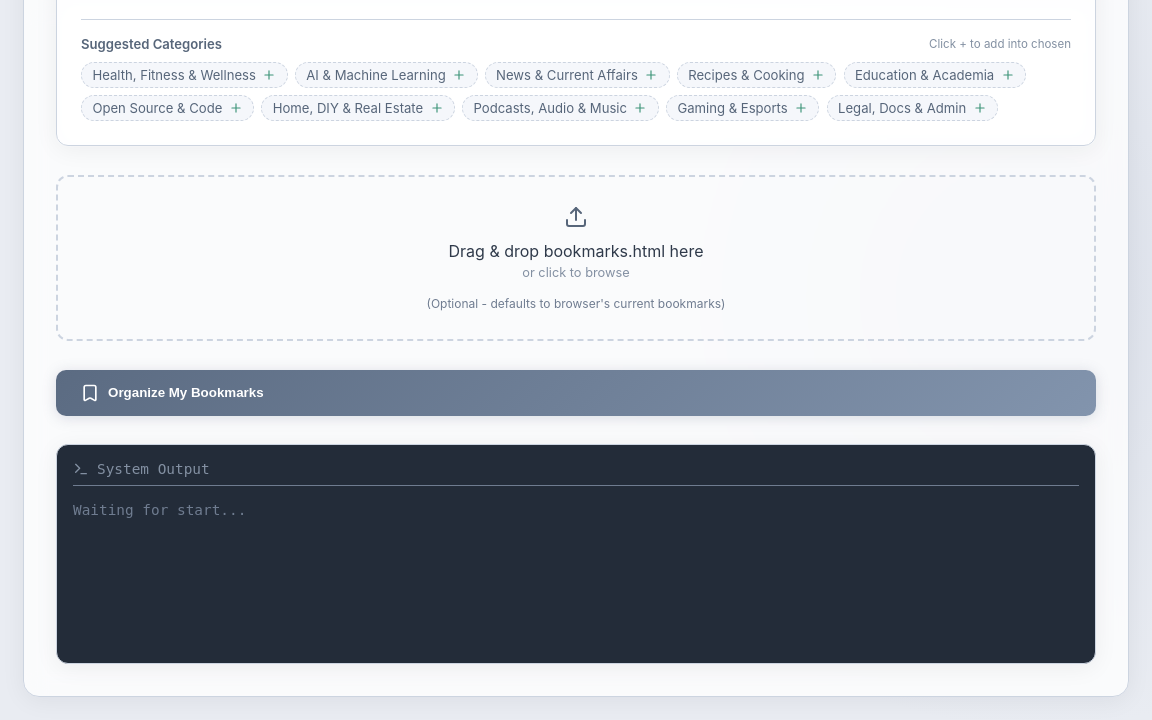
Test: Organizer Component UI Tests › handles status processing and progress to actually update UI progress and logs
This screenshot has width=1152, height=720.
(page scrolled)
Step 1. Click the button "Organize My Bookmarks" → [186, 393], box [56,370,1096,416]
(page scrolled)
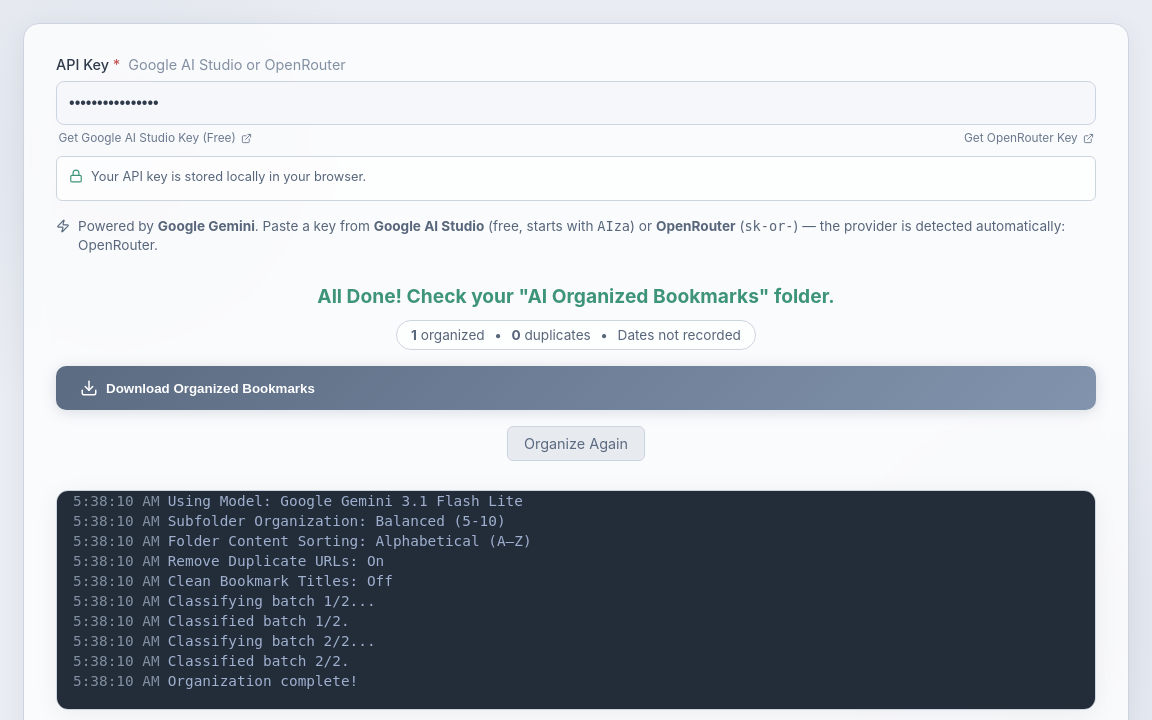
Result: the text "Classifying batch 1/2..." is shown at [168,593,376,609]
Result: the text "Classified batch 1/2." is shown at [168,613,350,629]
Result: the text "Organization complete!" is shown at [168,673,358,689]
